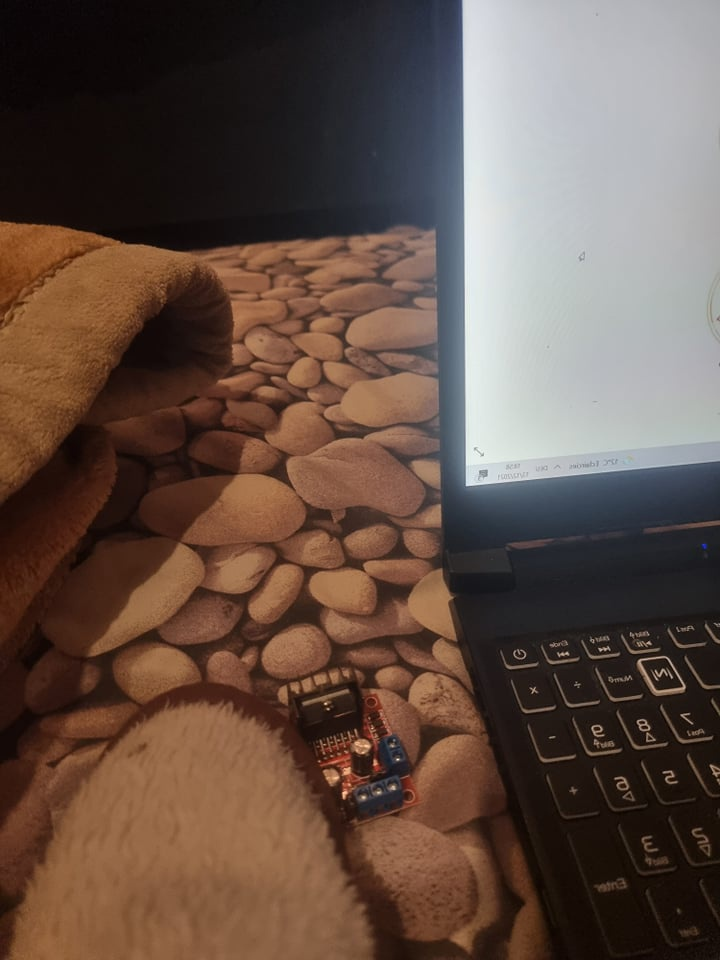MOTOR: (282, 667, 423, 822)
